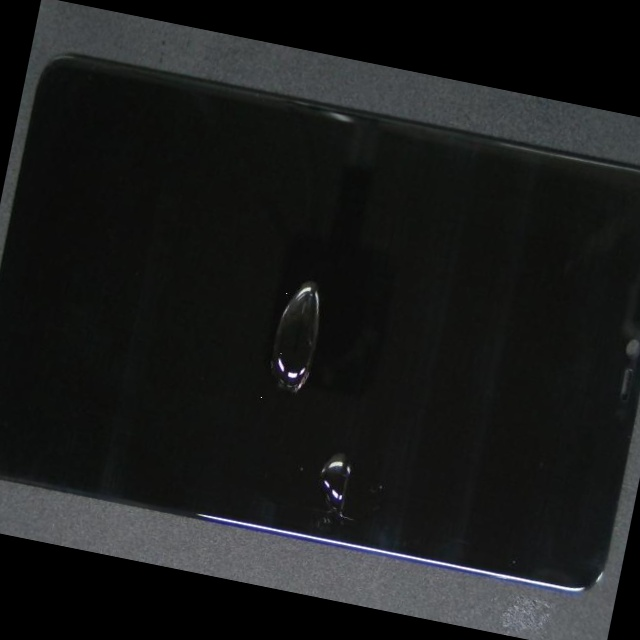oil: (103, 201, 554, 631), (96, 120, 454, 505)
